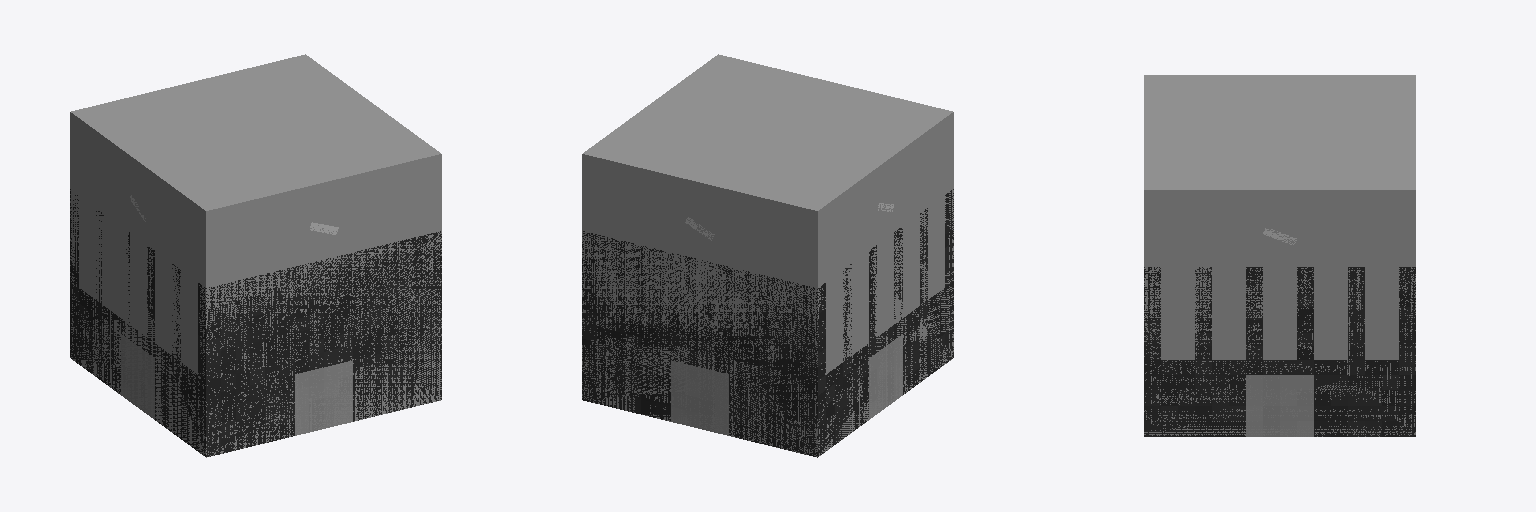
3 views of the same model, side by side, from view 1: azimuth 30°, elevation 25°; view 2: azimuth 150°, elevation 25°; view 3: azimuth 270°, elevation 25° (orthographic).
Parts seen in each view (by area): view 1: Minecraft_Block_Cube, main; view 2: Minecraft_Block_Cube, main; view 3: Minecraft_Block_Cube, main.
Part boxes in pixels (left/top/right/bottom): Minecraft_Block_Cube: left=70, top=54, right=441, bottom=457; main: left=70, top=189, right=441, bottom=456; Minecraft_Block_Cube: left=582, top=54, right=953, bottom=456; main: left=582, top=189, right=953, bottom=457; Minecraft_Block_Cube: left=1144, top=75, right=1415, bottom=436; main: left=1144, top=267, right=1415, bottom=436.
Bounding box in the file's own units: 1 × 1 × 1.
3 materials, 1 textured.